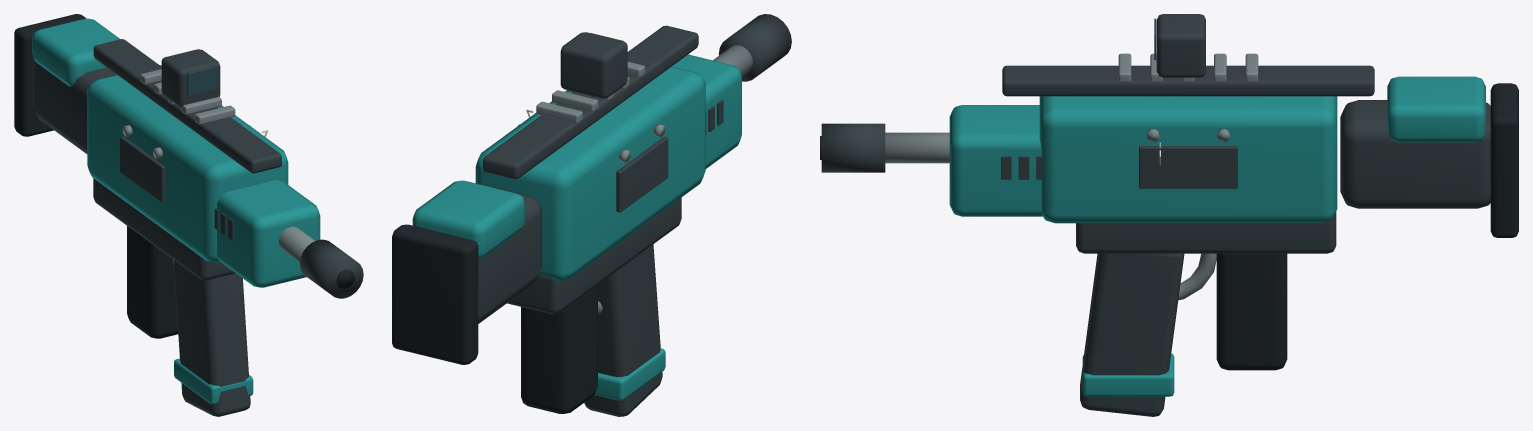
The model's file is k27_carbine_abyss.glb.
3 views of the same model, side by side, from view 1: azimuth 30°, elevation 25°; view 2: azimuth 150°, elevation 25°; view 3: azimuth 270°, elevation 25° (orthographic). The views are drawn at different scales.
Parts seen in each view (by area): view 1: k27_carbine_abyss; view 2: k27_carbine_abyss; view 3: k27_carbine_abyss.
Part boxes in pixels (bbox=[...]): k27_carbine_abyss: bbox=[14, 14, 363, 416]; k27_carbine_abyss: bbox=[392, 14, 791, 416]; k27_carbine_abyss: bbox=[820, 14, 1518, 416].
Bounding box in the file's own units: 0.2207 × 0.6045 × 0.9915.
